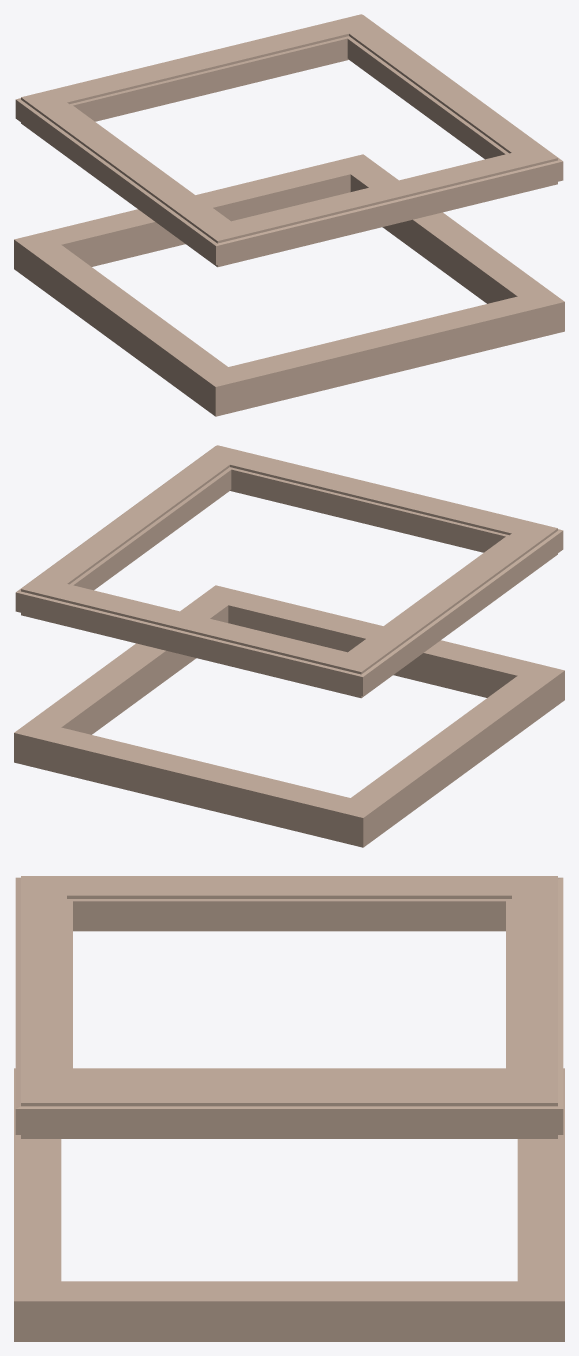
Rendered from TOWER_FLOOR3.fbx.
3 views of the same model, one above another, from view 1: azimuth 30°, elevation 25°; view 2: azimuth 150°, elevation 25°; view 3: azimuth 270°, elevation 25° (orthographic). The views are drawn at different scales.
Parts seen in each view (by area): view 1: TOWER_FLOOR3; view 2: TOWER_FLOOR3; view 3: TOWER_FLOOR3.
Part boxes in pixels (bbox=[...]): TOWER_FLOOR3: bbox=[14, 14, 564, 416]; TOWER_FLOOR3: bbox=[14, 445, 564, 847]; TOWER_FLOOR3: bbox=[14, 876, 564, 1341].
Bounding box in the file's own units: 342 × 342 × 161.
